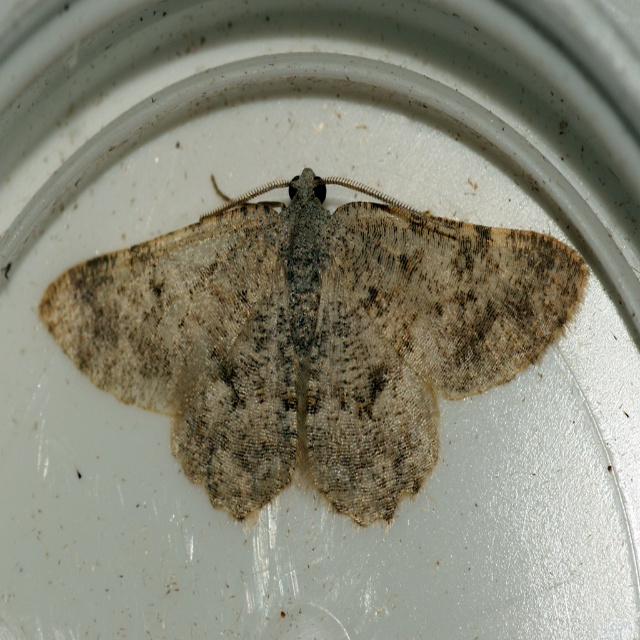Moths and butterflies: (34, 165, 593, 538)
